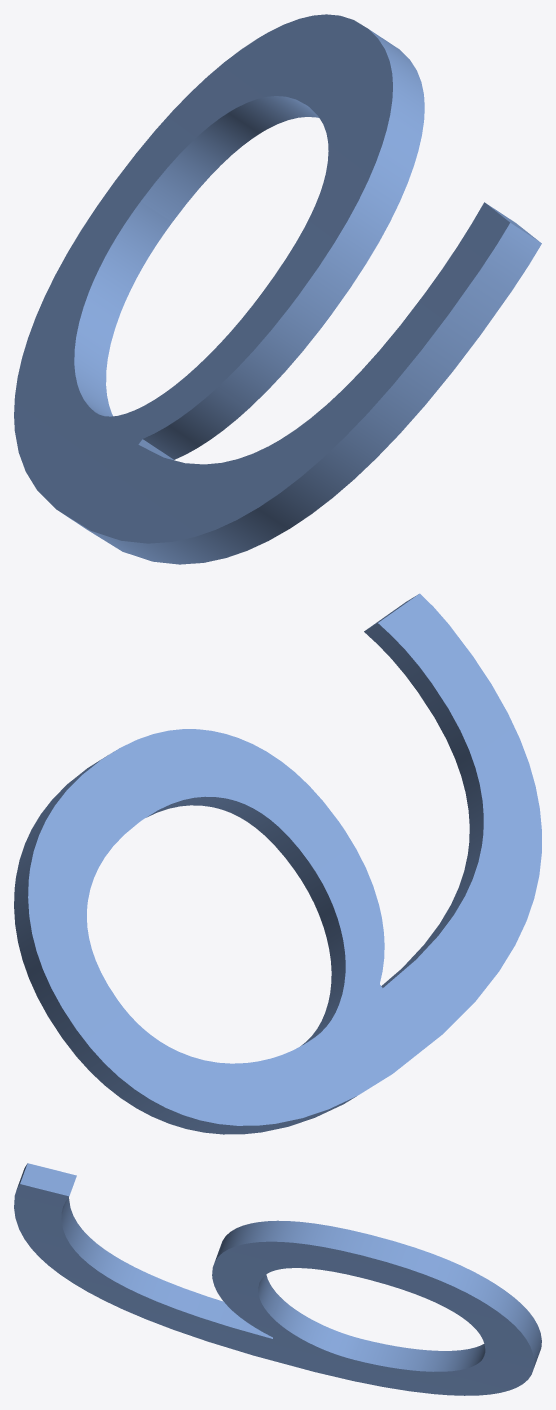
File: New_Number_9.gltf
3 views of the same model, one above another, from view 1: azimuth 30°, elevation 25°; view 2: azimuth 150°, elevation 25°; view 3: azimuth 270°, elevation 25° (orthographic). The views are drawn at different scales.
Visible parts, largest first — view 1: Part 684; view 2: Part 684; view 3: Part 684.
Part boxes in pixels (x1=…): Part 684: x1=14, y1=14, x2=541, y2=564; Part 684: x1=14, y1=593, x2=541, y2=1134; Part 684: x1=14, y1=1163, x2=541, y2=1395.
Size of the model in its own units: 0.00301 by 0.00313 by 0.00555.
